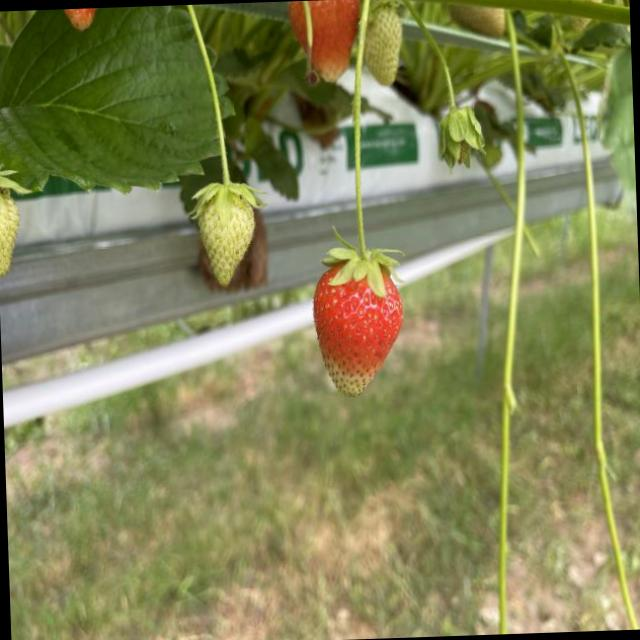stem: (323, 0, 399, 297), (186, 4, 263, 218)
strawberryNR: (198, 189, 254, 286)
strawberryR: (313, 264, 403, 396)
